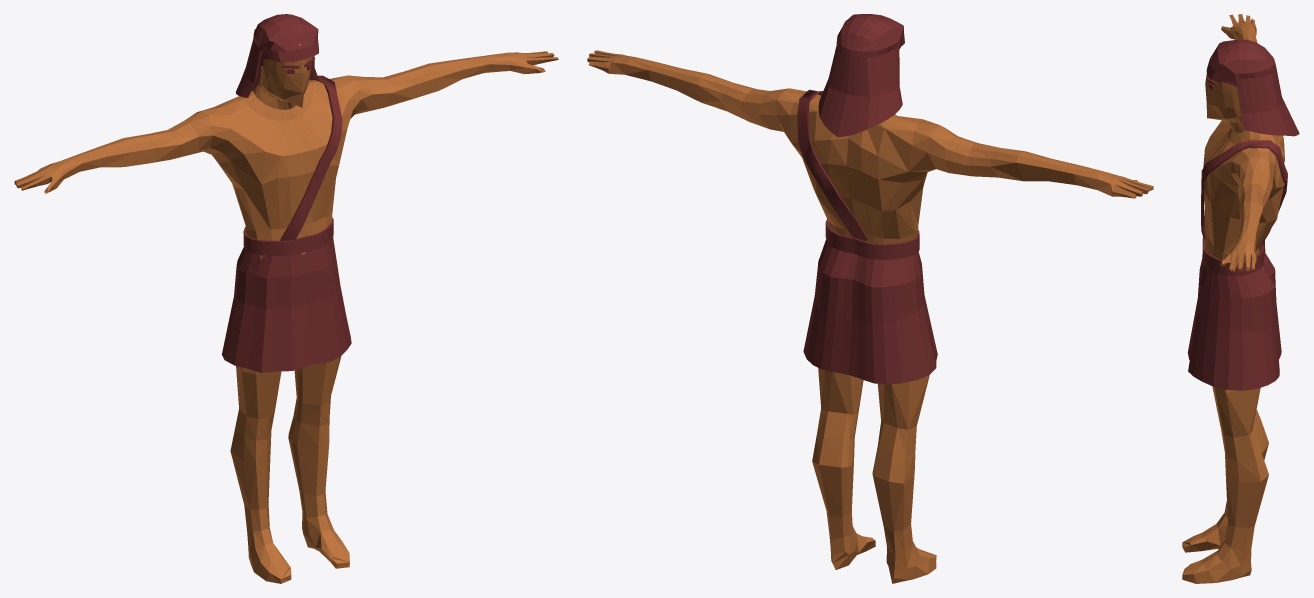
File: SM_soldier_egypt.fbx
3 views of the same model, side by side, from view 1: azimuth 30°, elevation 25°; view 2: azimuth 150°, elevation 25°; view 3: azimuth 270°, elevation 25° (orthographic). The views are drawn at different scales.
Visible parts, largest first — view 1: Object1284360; view 2: Object1284360; view 3: Object1284360.
Boxes of the visible parts, bbox=[...] form: Object1284360: bbox=[14, 14, 558, 583]; Object1284360: bbox=[587, 14, 1153, 583]; Object1284360: bbox=[1182, 14, 1299, 583].
Size of the model in its own units: 80.91 by 15.81 by 77.27.
